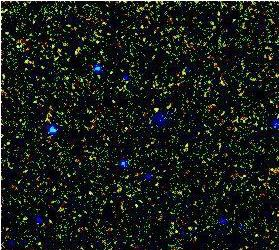star: (138, 93, 168, 123)
